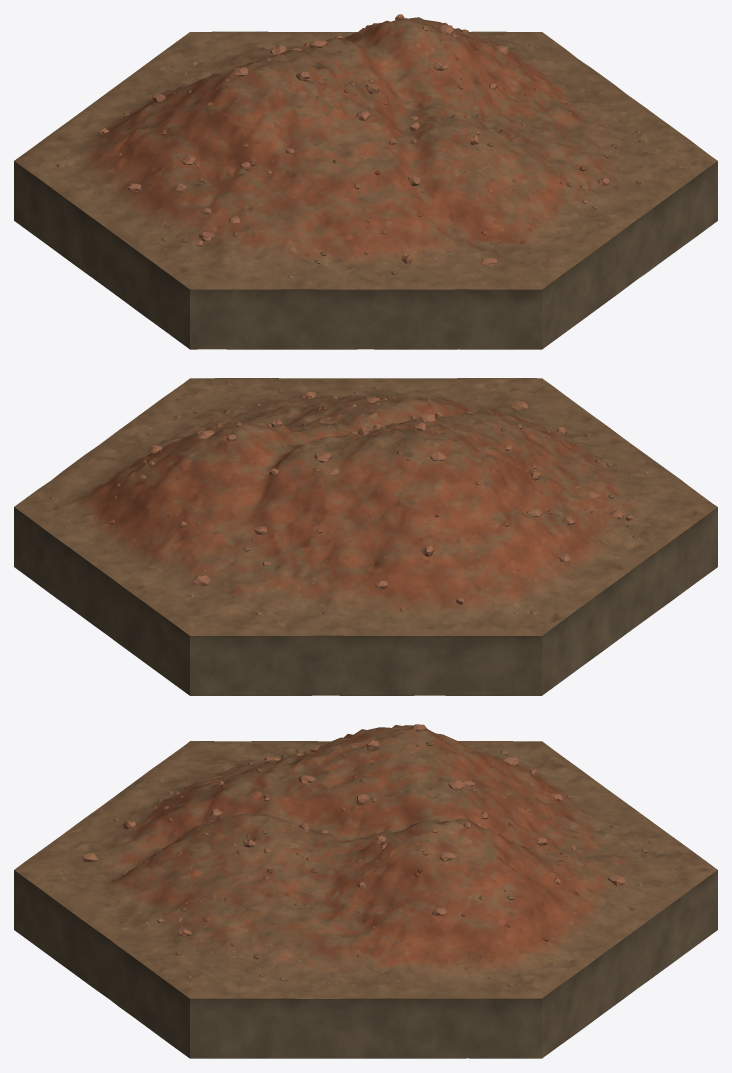
Rendered from Clay.glb.
3 renders of one model, top to bottom at view 1: azimuth 30°, elevation 25°; view 2: azimuth 150°, elevation 25°; view 3: azimuth 270°, elevation 25°, orthographic.
Parts seen in each view (by area): view 1: Clay_Ground_Web, Clay_Decorations_Web, Ground_Aggregates; view 2: Clay_Ground_Web, Clay_Decorations_Web, Ground_Aggregates; view 3: Clay_Ground_Web, Clay_Decorations_Web, Ground_Aggregates.
Part boxes in pixels (x1,y1,x2,y2): Clay_Ground_Web: (14,17,717,349); Clay_Decorations_Web: (98,14,609,266); Ground_Aggregates: (56,22,681,278); Clay_Ground_Web: (14,378,717,695); Clay_Decorations_Web: (150,392,634,604); Ground_Aggregates: (49,383,648,622); Clay_Ground_Web: (14,725,717,1058); Clay_Decorations_Web: (81,724,625,936); Ground_Aggregates: (113,740,652,986).
Bounding box in the file's own units: 1.65 × 0.482 × 1.91.
Materials: 4 (4 with a texture image).
